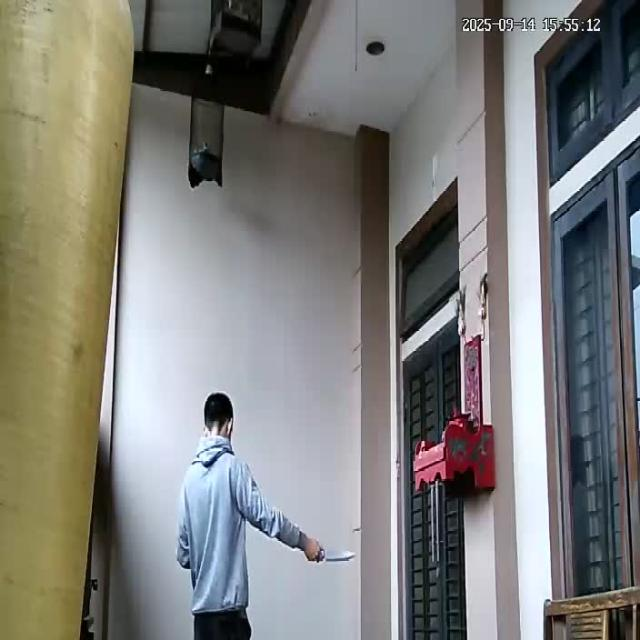senjata_tajam: (323, 548, 356, 564)
